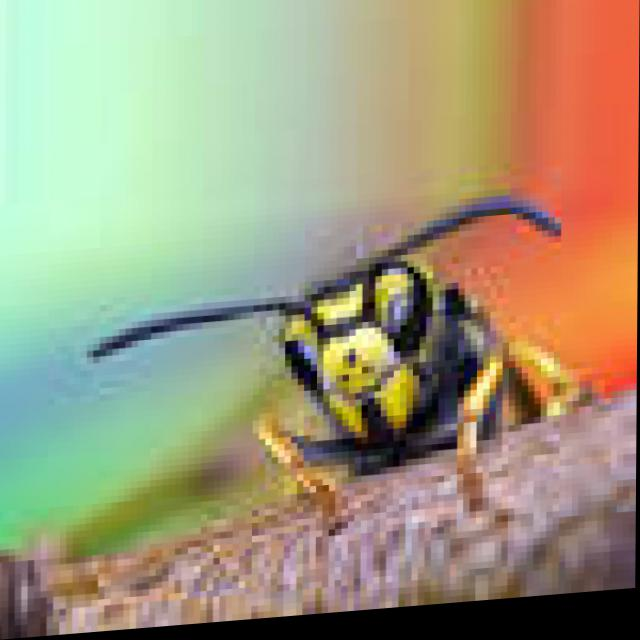Vespa Velutina: (59, 187, 595, 568)
